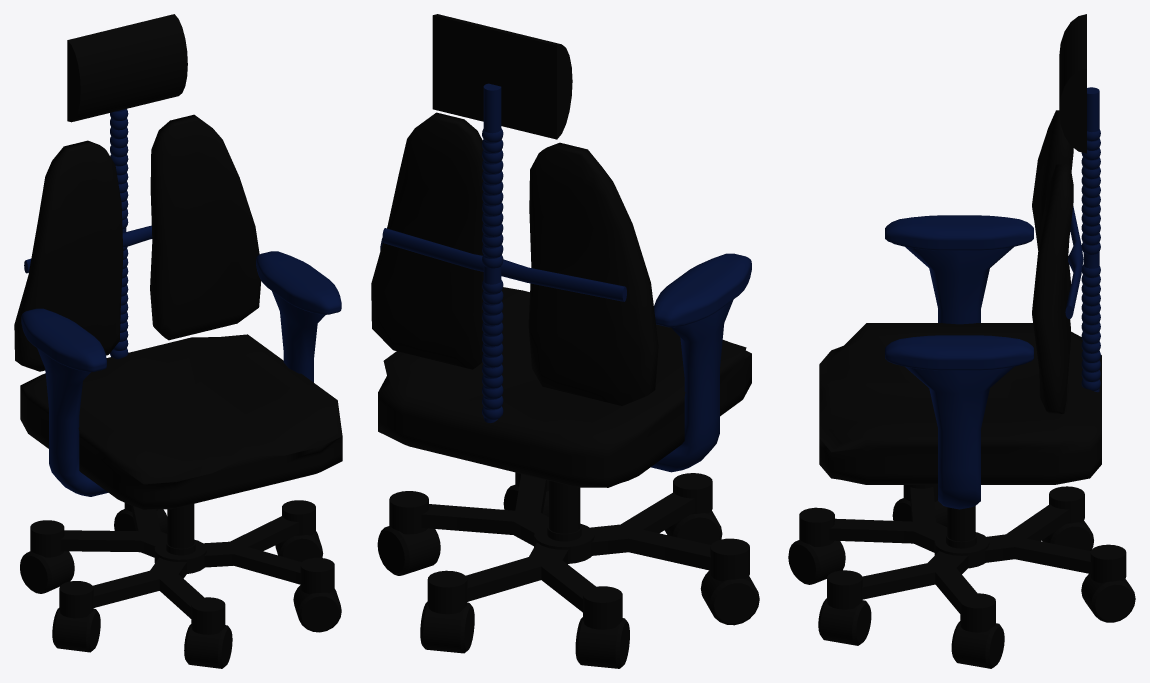
Rendered from Chair3.FBX.
The picture shows the model from 3 angles, left to right: view 1: azimuth 30°, elevation 25°; view 2: azimuth 150°, elevation 25°; view 3: azimuth 270°, elevation 25°; orthographic projection. The views are drawn at different scales.
Parts seen in each view (by area): view 1: pCube3, pCube2, pCube1, pCube8, pCylinder3, pCube14, pCube13, pCube15, pCylinder4, pCylinder5, pCylinder1; view 2: pCube3, pCube1, pCube2, pCylinder3, pCube15, pCube14, pCube8, pCube13, pCylinder1, pCylinder2, pCylinder4, pCylinder5; view 3: pCube3, pCube8, pCube13, pCube15, pCube2, pCube14, pCylinder3, pCube1, pCylinder4, pCylinder2, pCylinder1, pCylinder5.
Part boxes in pixels (left/top/right/bottom): pCube3: left=20, top=334, right=342, bottom=509; pCube2: left=150, top=114, right=261, bottom=340; pCube1: left=14, top=140, right=123, bottom=371; pCube8: left=21, top=251, right=341, bottom=496; pCylinder3: left=67, top=14, right=187, bottom=122; pCube14: left=52, top=557, right=232, bottom=668; pCube13: left=203, top=500, right=341, bottom=632; pCube15: left=20, top=503, right=167, bottom=593; pCylinder4: left=166, top=504, right=195, bottom=555; pCylinder5: left=154, top=539, right=206, bottom=573; pCylinder1: left=24, top=225, right=152, bottom=273; pCube3: left=378, top=287, right=751, bottom=487; pCube1: left=528, top=142, right=658, bottom=405; pCube2: left=371, top=112, right=483, bottom=369; pCylinder3: left=432, top=14, right=572, bottom=139; pCube15: left=420, top=543, right=629, bottom=668; pCube14: left=590, top=473, right=759, bottom=625; pCube8: left=380, top=238, right=751, bottom=472; pCube13: left=377, top=472, right=548, bottom=575; pCylinder1: left=382, top=228, right=626, bottom=301; pCylinder2: left=483, top=83, right=501, bottom=423; pCylinder4: left=547, top=480, right=581, bottom=541; pCylinder5: left=534, top=523, right=594, bottom=563; pCube3: left=819, top=323, right=1101, bottom=484; pCube8: left=885, top=215, right=1033, bottom=509; pCube13: left=818, top=551, right=1004, bottom=668; pCube15: left=984, top=486, right=1135, bottom=622; pCube2: left=1032, top=164, right=1073, bottom=413; pCube14: left=788, top=485, right=947, bottom=584; pCylinder3: left=1059, top=14, right=1086, bottom=153; pCube1: left=1032, top=110, right=1073, bottom=297; pCylinder4: left=946, top=506, right=976, bottom=548; pCylinder2: left=1083, top=87, right=1099, bottom=392; pCylinder1: left=1065, top=206, right=1083, bottom=318; pCylinder5: left=934, top=532, right=989, bottom=568.
Bounding box in the file's own units: 515 × 885 × 499.
